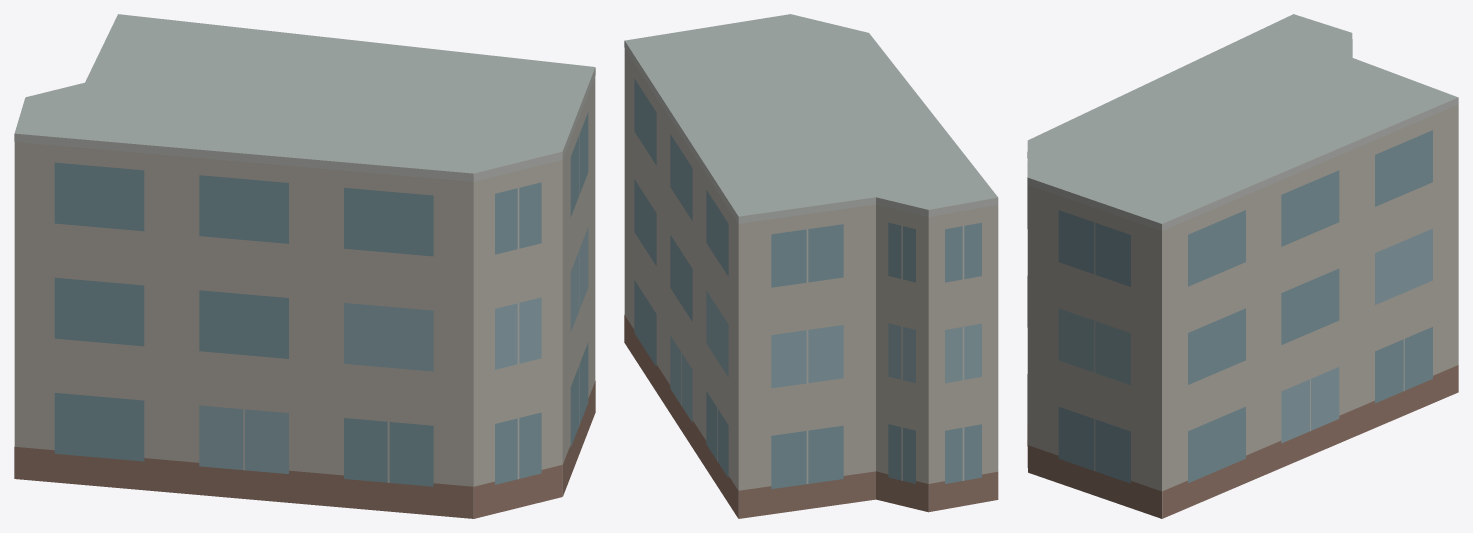
Rendered from survey-upis-32641515.glb.
The picture shows the model from 3 angles, left to right: view 1: azimuth 30°, elevation 25°; view 2: azimuth 150°, elevation 25°; view 3: azimuth 270°, elevation 25°; orthographic projection. The views are drawn at different scales.
Parts seen in each view (by area): view 1: survey-upis-32641515.tmp; view 2: survey-upis-32641515.tmp; view 3: survey-upis-32641515.tmp.
Boxes of the visible parts, x1,y1,x2,y2 form: survey-upis-32641515.tmp: (14,14,595,518); survey-upis-32641515.tmp: (624,14,998,518); survey-upis-32641515.tmp: (1027,14,1458,518).
Size of the model in its own units: 15.59 by 10.2 by 13.52.
